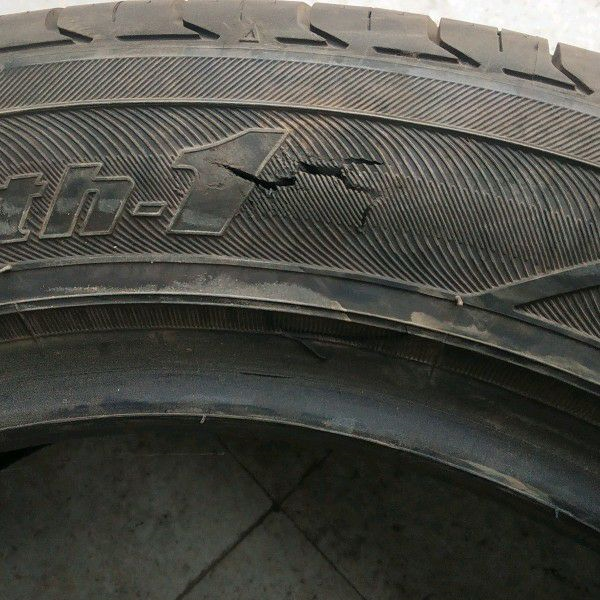cut: (211, 159, 384, 236), (338, 158, 385, 165)
